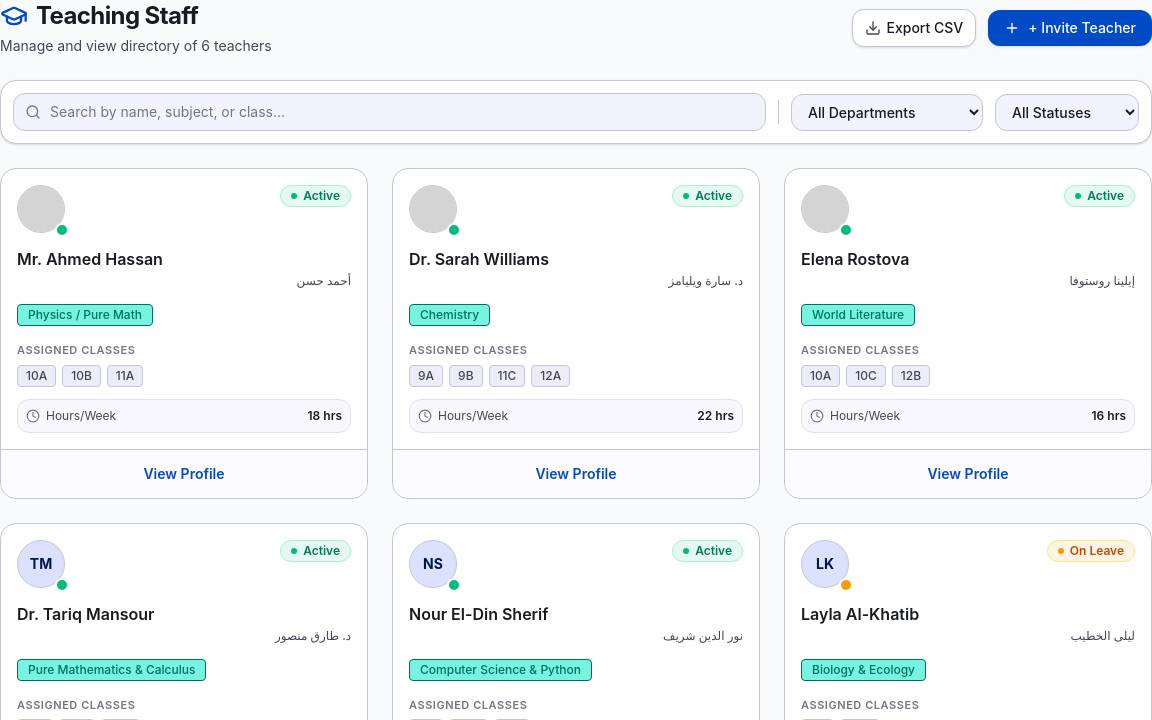
TeachersPage (Teaching Staff Directory & 360° Profile Stitch Clone) › filters teachers by department
The width and height of the screenshot is (1152, 720).
Select "Humanities & Languages" in the 1st dropdown at (887, 112), box top-left (791, 94), bottom-right (983, 130)
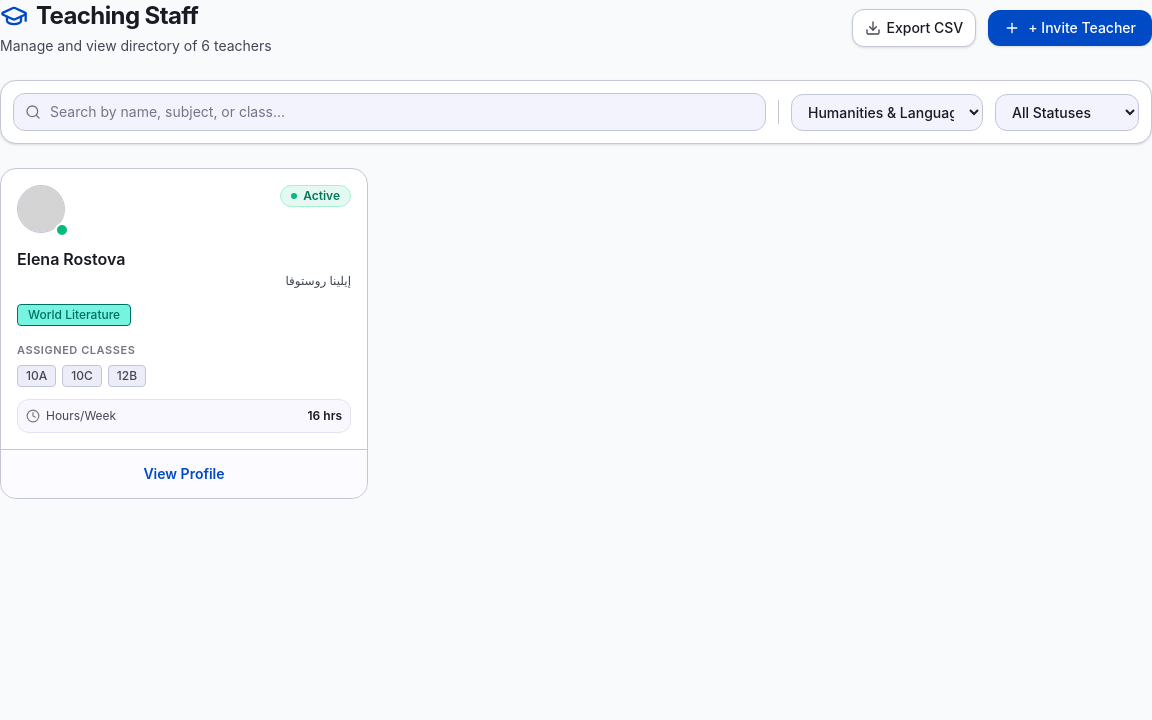
Check: the heading "Elena Rostova" is shown, box top-left (17, 249), bottom-right (126, 269)
Check: the heading "Mr. Ahmed Hassan" is gone
